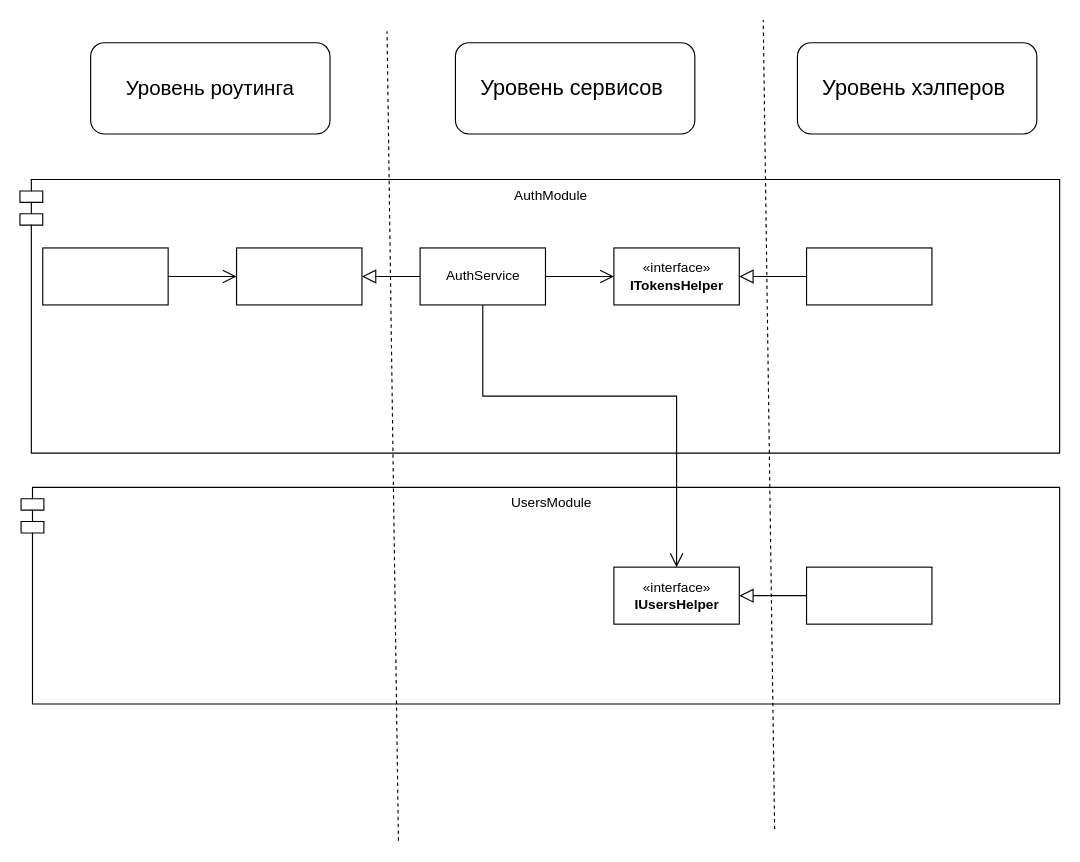
The diagram is 1080 pixels wide and 862 high, and some of its shapes have lost their labels. Each missing label, with the centre of its shape:
AuthController: the point at 105,276
TokensHelper: the point at 868,276
UserHelper: the point at 868,595
«interface» IAuthService: the point at 298,276
